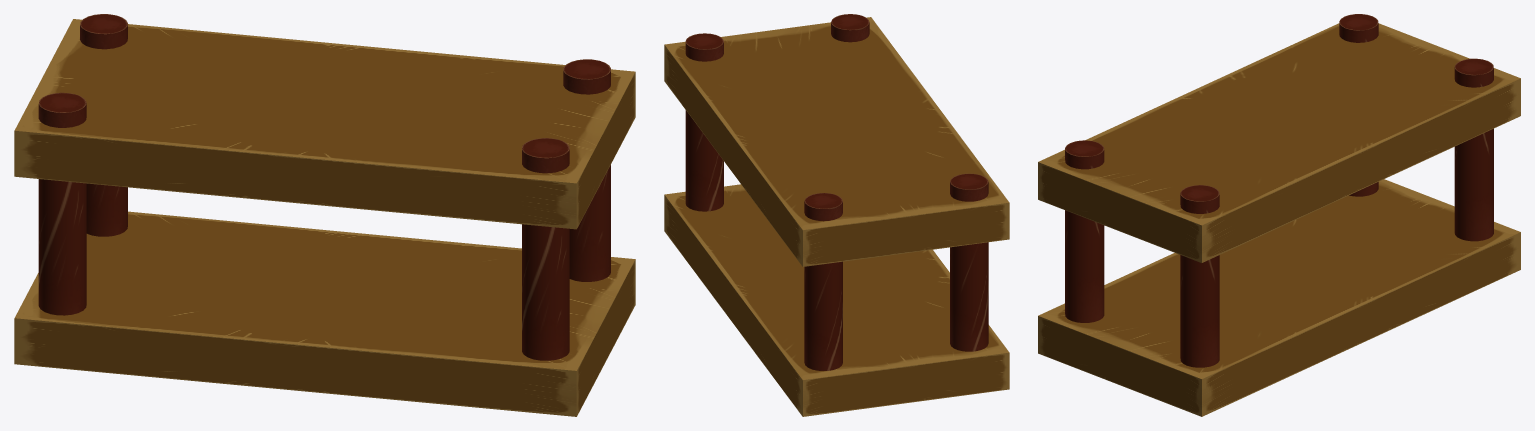
Rendered from Repisa.obj.
3 views of the same model, side by side, from view 1: azimuth 30°, elevation 25°; view 2: azimuth 150°, elevation 25°; view 3: azimuth 270°, elevation 25° (orthographic). The views are drawn at different scales.
Parts seen in each view (by area): view 1: Repisa_pCube3; view 2: Repisa_pCube3; view 3: Repisa_pCube3.
Part boxes in pixels (x1=…): Repisa_pCube3: x1=14, y1=14, x2=635, y2=416; Repisa_pCube3: x1=664, y1=14, x2=1009, y2=416; Repisa_pCube3: x1=1038, y1=14, x2=1520, y2=416.
Size of the model in its own units: 0.9748 by 0.4399 by 0.9447.
Materials: 2 (2 with a texture image).
